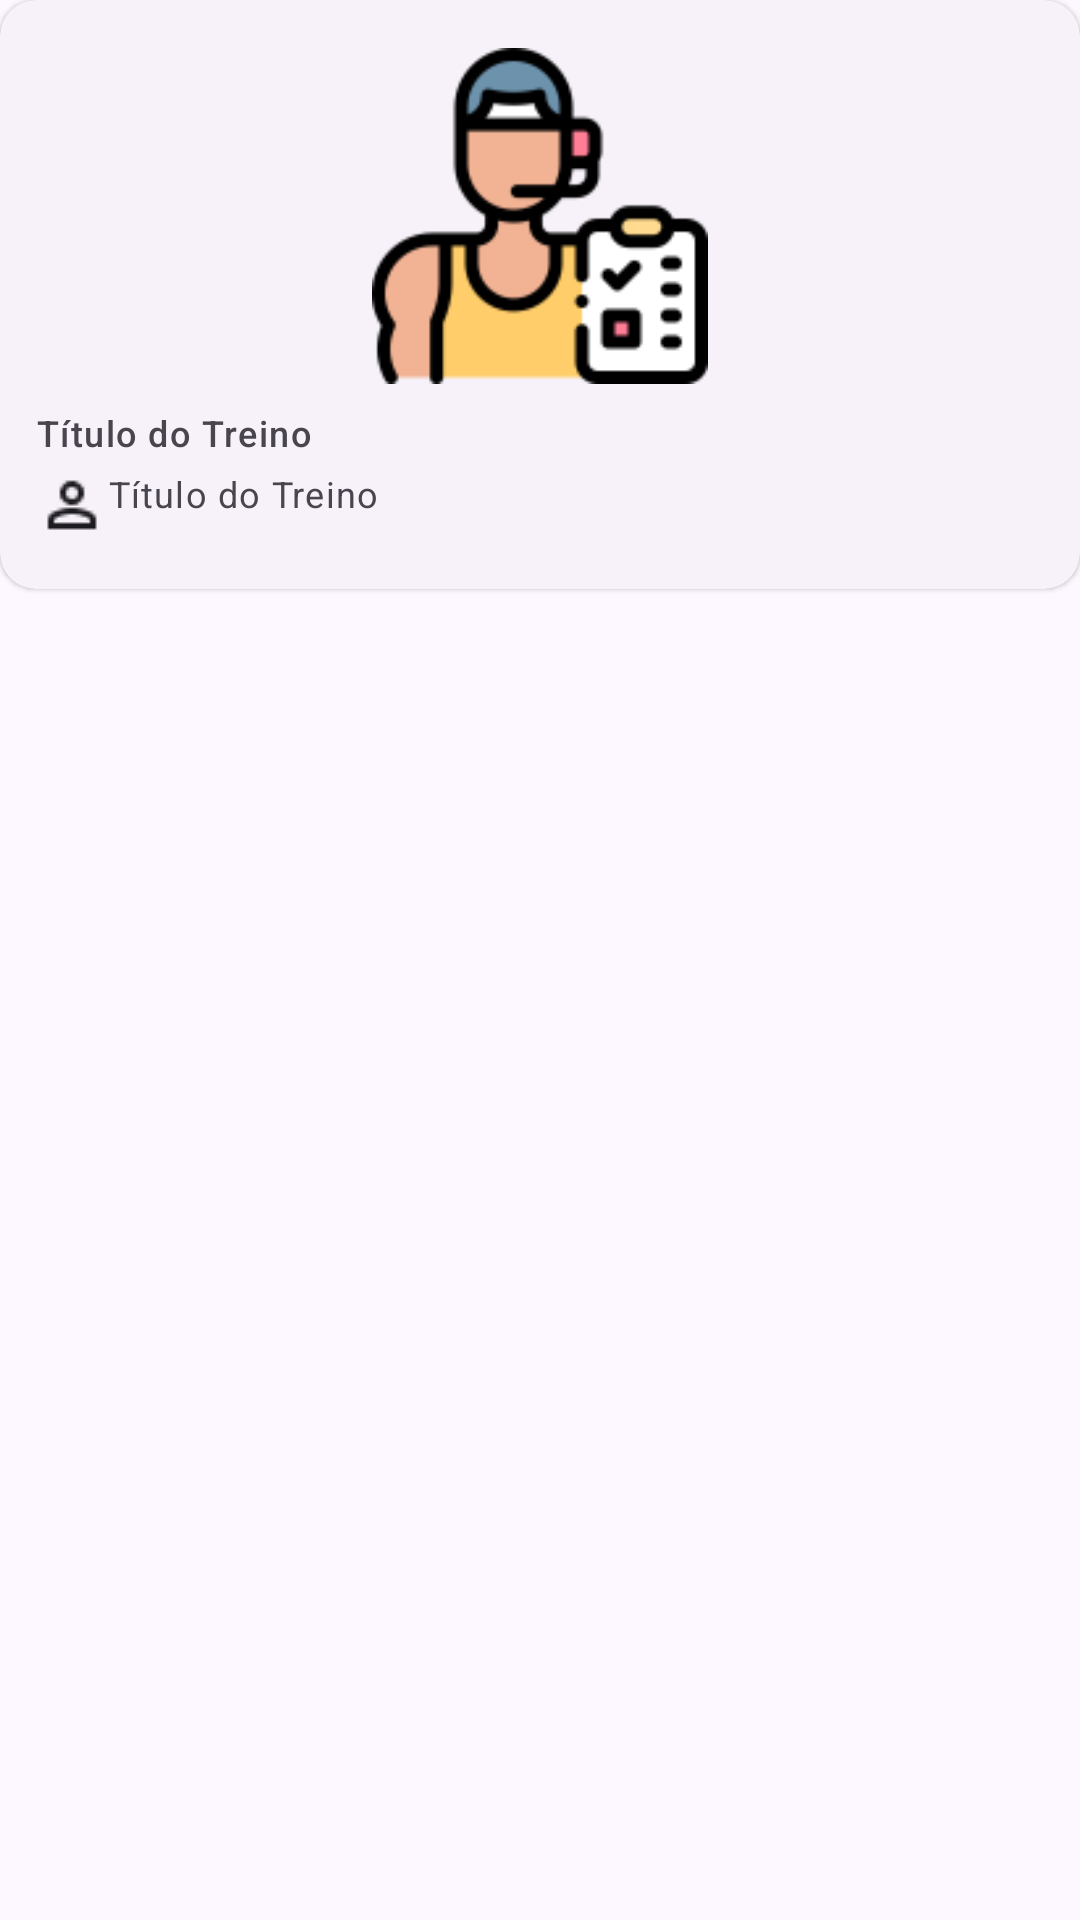

Icons on this 1080*1920 Android screen, each with its box as box=[x1, y1, x2, y2]:
person: box=[47, 480, 97, 530]
personal: box=[372, 48, 708, 384]
